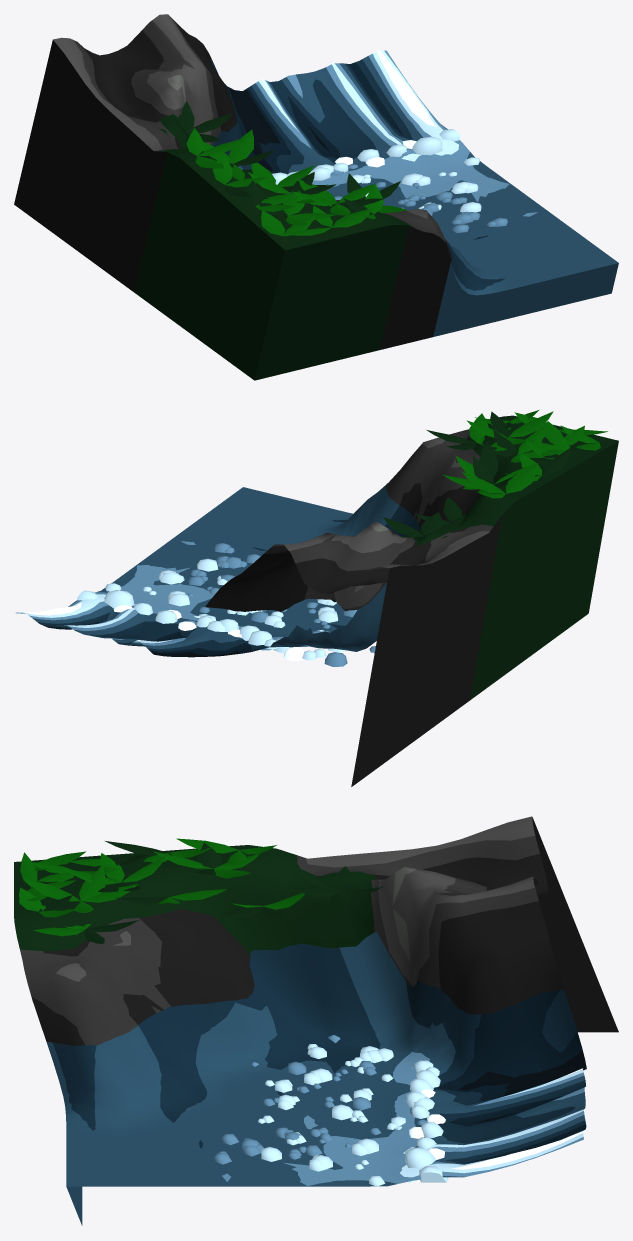
Rendered from torm_fall_bl_272.glb.
3 views of the same model, one above another, from view 1: azimuth 30°, elevation 25°; view 2: azimuth 150°, elevation 25°; view 3: azimuth 270°, elevation 25° (orthographic). The views are drawn at different scales.
Visible parts, largest first — view 1: torm_fall_bl_272; view 2: torm_fall_bl_272; view 3: torm_fall_bl_272.
Boxes of the visible parts, x1,y1,x2,y2 form: torm_fall_bl_272: [14, 14, 618, 380]; torm_fall_bl_272: [16, 409, 618, 786]; torm_fall_bl_272: [14, 816, 618, 1225].
Bounding box in the file's own units: 24 × 12.43 × 31.57.
